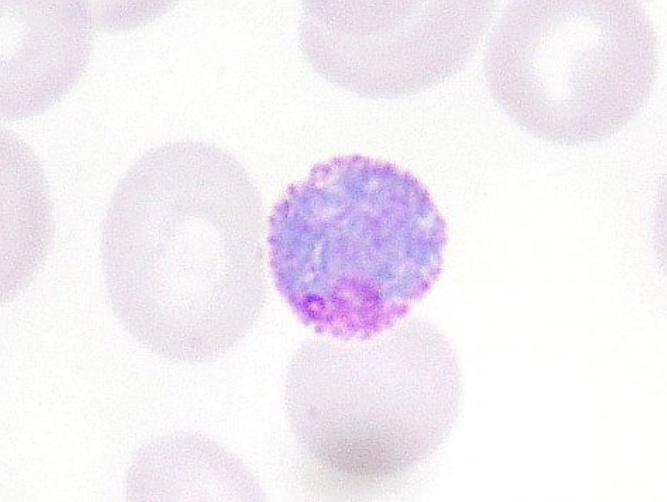Infected: (269, 153, 446, 336)
Uninfected: (102, 138, 271, 361), (287, 314, 463, 473), (486, 0, 659, 139), (300, 0, 485, 97)
